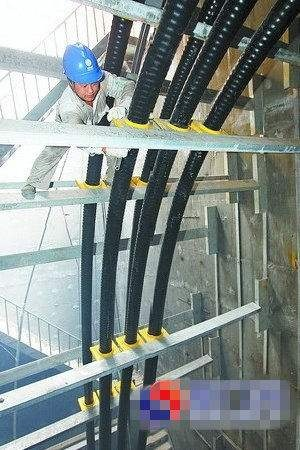blue: (60, 37, 104, 104)
